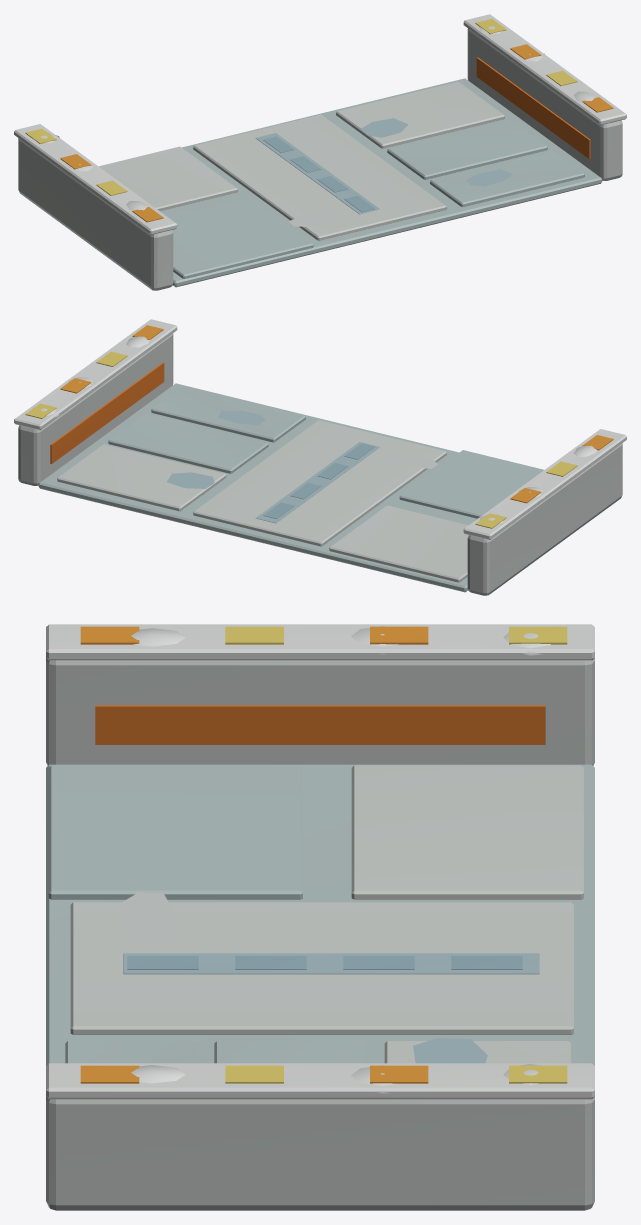
Rendered from runner_day_deck_kerb_c_v1.glb.
3 views of the same model, one above another, from view 1: azimuth 30°, elevation 25°; view 2: azimuth 150°, elevation 25°; view 3: azimuth 270°, elevation 25° (orthographic). The views are drawn at different scales.
Visible parts, largest first — view 1: runner_day_deck_kerb_c_v1; view 2: runner_day_deck_kerb_c_v1; view 3: runner_day_deck_kerb_c_v1.
Boxes of the visible parts, <box> form: runner_day_deck_kerb_c_v1: <box>14,14,626,290</box>; runner_day_deck_kerb_c_v1: <box>14,319,626,595</box>; runner_day_deck_kerb_c_v1: <box>46,624,594,1210</box>.
Size of the model in its own units: 12.11 by 1.59 by 6.
